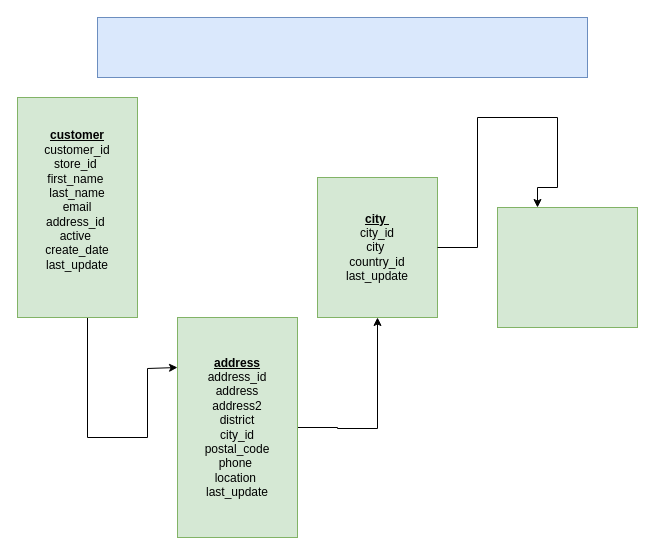
Image size: 655x555. Some labels were removed from this diagram. The shapes that lost their labels are listed below. From the top down, each one's centre as x and y in pixels, then its label:
At point (342, 47): "Schema design of selected tables .".
At point (567, 267): "country country_id country last_update".
